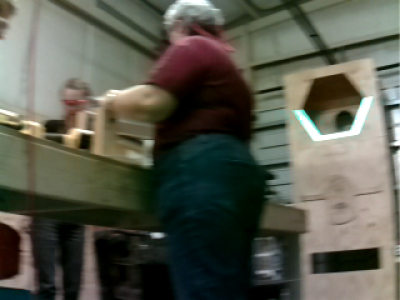target: (291, 96, 375, 142)
